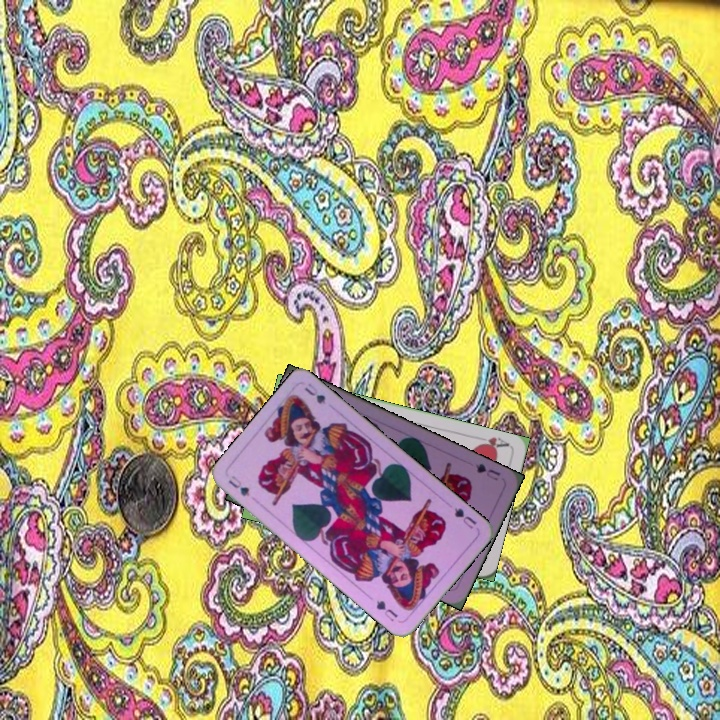GU: (450, 504, 479, 532), (224, 471, 252, 499), (471, 459, 503, 483)
HA: (471, 432, 512, 453)
